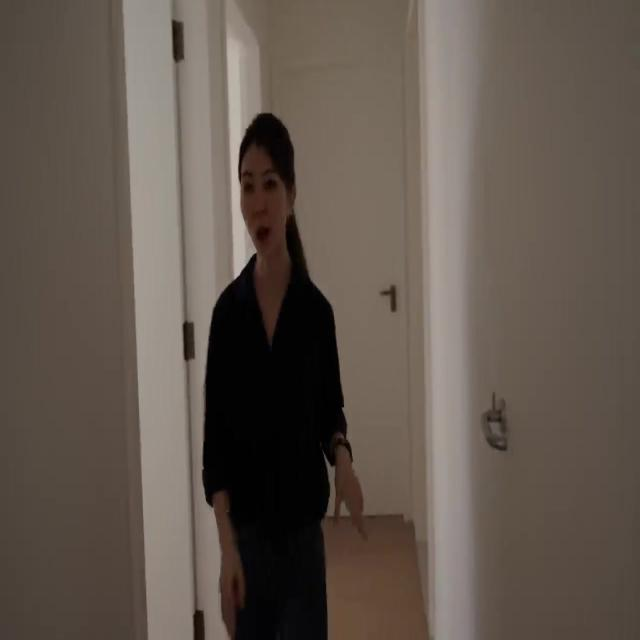door: (271, 58, 410, 518)
person: (201, 111, 357, 638)
